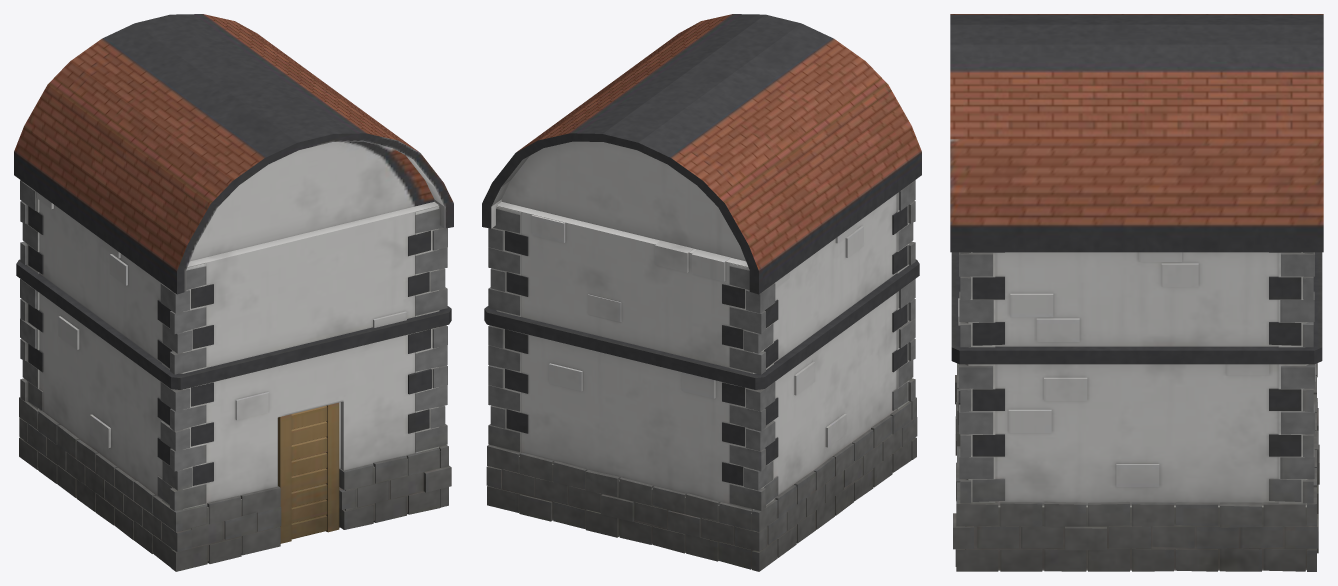
File: 2Story_RoundRoof.glb
3 renders of one model, left to right at view 1: azimuth 30°, elevation 25°; view 2: azimuth 150°, elevation 25°; view 3: azimuth 270°, elevation 25°, orthographic. The views are drawn at different scales.
Parts seen in each view (by area): view 1: 2Story_RoundRoof_high; view 2: 2Story_RoundRoof_high; view 3: 2Story_RoundRoof_high.
Part boxes in pixels (<box>): 2Story_RoundRoof_high: <box>14,14,453,571</box>; 2Story_RoundRoof_high: <box>482,14,921,571</box>; 2Story_RoundRoof_high: <box>950,14,1323,571</box>.
Size of the model in its own units: 2.11 by 2.9 by 2.13.
1 material, 1 textured.
